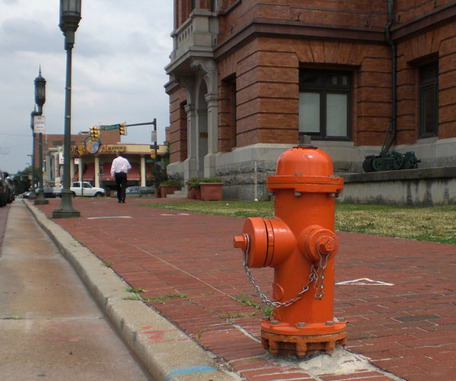firehdyrant: (230, 141, 365, 359)
